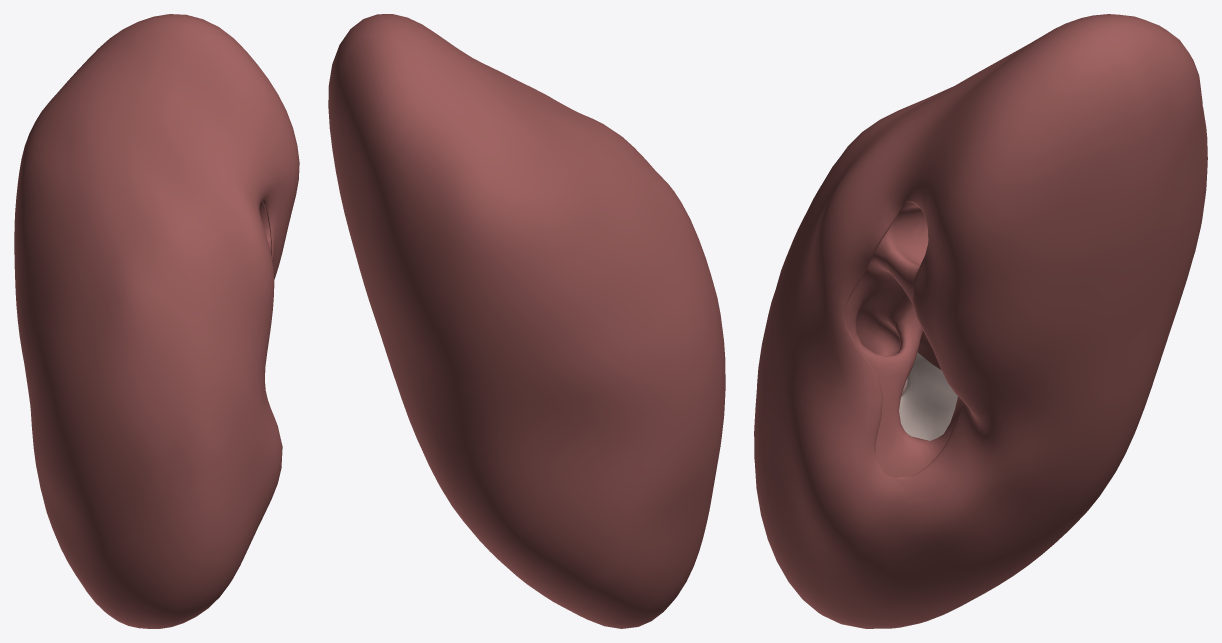
The model's file is kidney-r.glb.
3 views of the same model, side by side, from view 1: azimuth 30°, elevation 25°; view 2: azimuth 150°, elevation 25°; view 3: azimuth 270°, elevation 25° (orthographic). The views are drawn at different scales.
Visible parts, largest first — view 1: VH_F_kidney_capsule_R; view 2: VH_F_kidney_capsule_R; view 3: VH_F_kidney_capsule_R, VH_F_outer_cortex_of_kidney_R.
Boxes of the visible parts, x1,y1,x2,y2 form: VH_F_kidney_capsule_R: [14, 14, 299, 628]; VH_F_kidney_capsule_R: [328, 14, 725, 628]; VH_F_kidney_capsule_R: [754, 14, 1207, 628]; VH_F_outer_cortex_of_kidney_R: [899, 352, 957, 440].
Size of the model in its own units: 0.0567 by 0.1065 by 0.0647.
